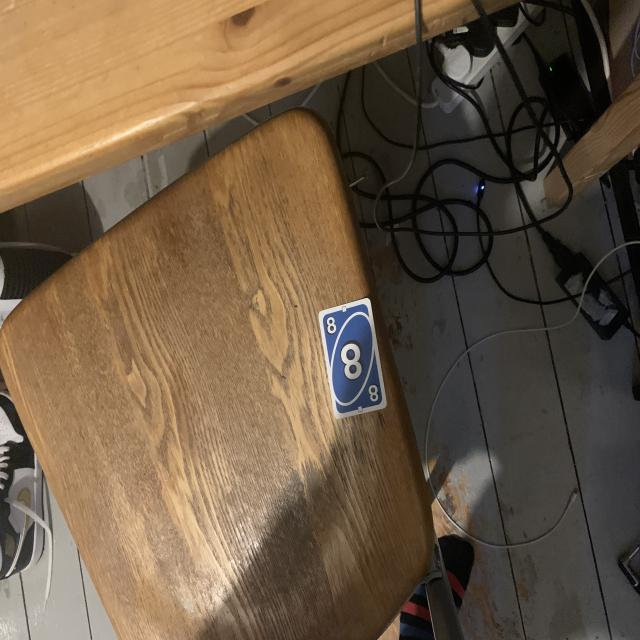lblue-8: (324, 315, 338, 337)
